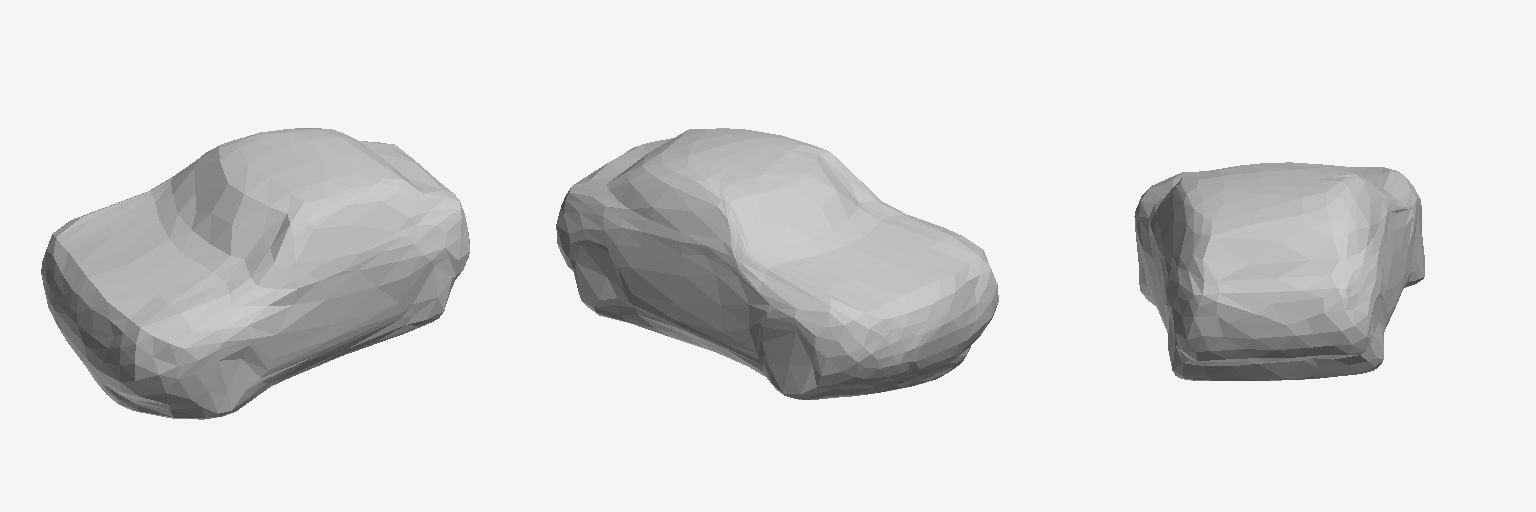
Rendered from video3_38.obj.
3 renders of one model, left to right at view 1: azimuth 30°, elevation 25°; view 2: azimuth 150°, elevation 25°; view 3: azimuth 270°, elevation 25°, orthographic.
Bounding box in the file's own units: 1 × 0.4858 × 0.6928.